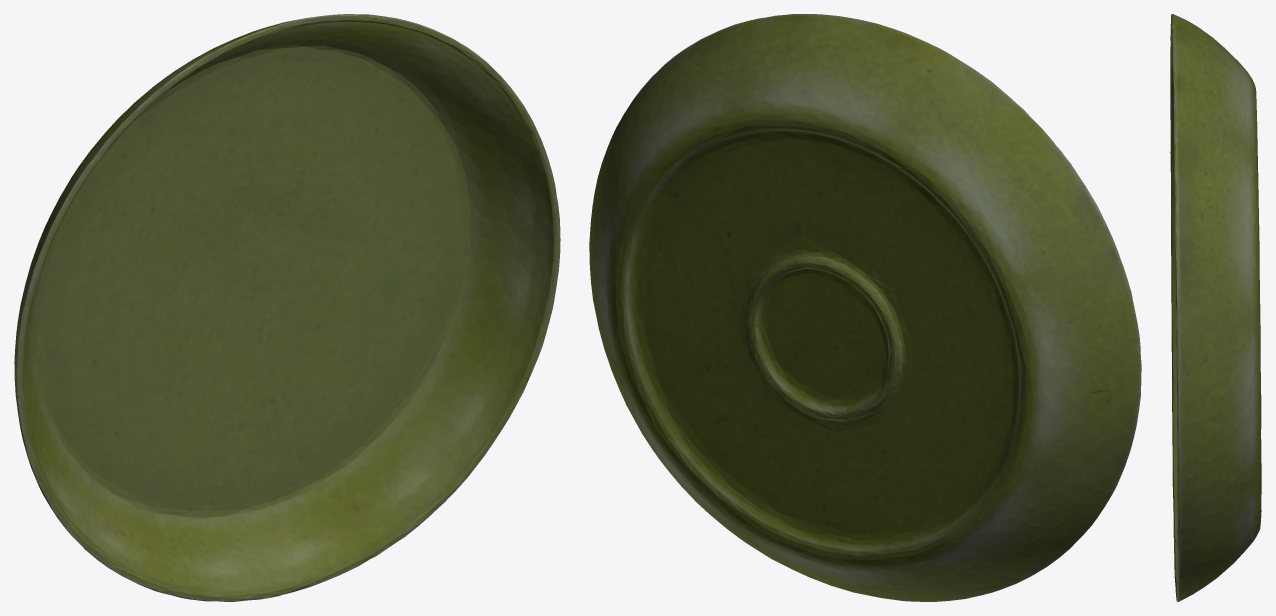
Rendered from Ecoforms_Plate_S20Avocado.glb.
The picture shows the model from 3 angles, left to right: view 1: azimuth 30°, elevation 25°; view 2: azimuth 150°, elevation 25°; view 3: azimuth 270°, elevation 25°; orthographic projection. The views are drawn at different scales.
Parts seen in each view (by area): view 1: v0; view 2: v0; view 3: v0.
Part boxes in pixels (left/top/right/bottom): v0: left=14, top=14, right=560, bottom=601; v0: left=589, top=14, right=1141, bottom=601; v0: left=1170, top=14, right=1261, bottom=601.
Bounding box in the file's own units: 0.207 × 0.2065 × 0.0322.
Materials: 1 (1 with a texture image).
